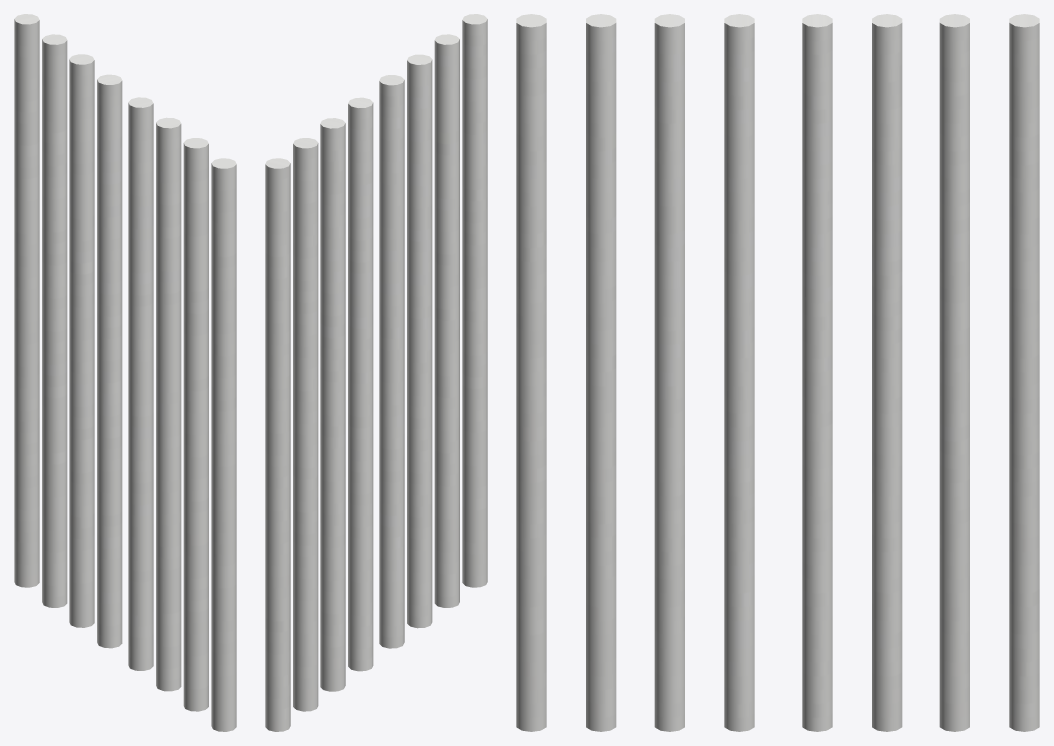
Rendered from Vallas_type1.fbx.
The picture shows the model from 3 angles, left to right: view 1: azimuth 30°, elevation 25°; view 2: azimuth 150°, elevation 25°; view 3: azimuth 270°, elevation 25°; orthographic projection. The views are drawn at different scales.
Parts seen in each view (by area): view 1: Vallas; view 2: Vallas; view 3: Vallas.
Boxes of the visible parts, box(x1,y1,x2,y2) form: Vallas: box(14, 14, 236, 731); Vallas: box(265, 14, 487, 731); Vallas: box(516, 14, 1039, 731).
Bounding box in the file's own units: 8.18 × 200 × 135.
Materials: 1 (1 with a texture image).
